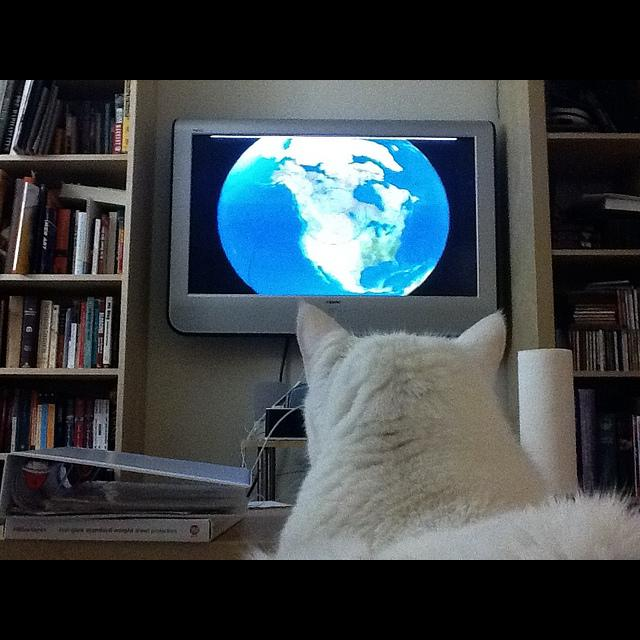Flat-Panel-TV: (170, 118, 498, 337)
